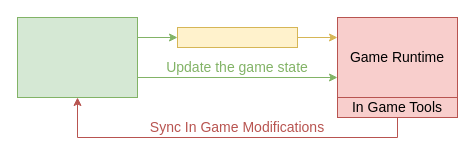
Image size: 475x163. Some labels were removed from this diagram. Each missing label, with the centre of its shape:
"Game Builder" belongs at (237,37).
"Scene Editor" belongs at (77,57).
